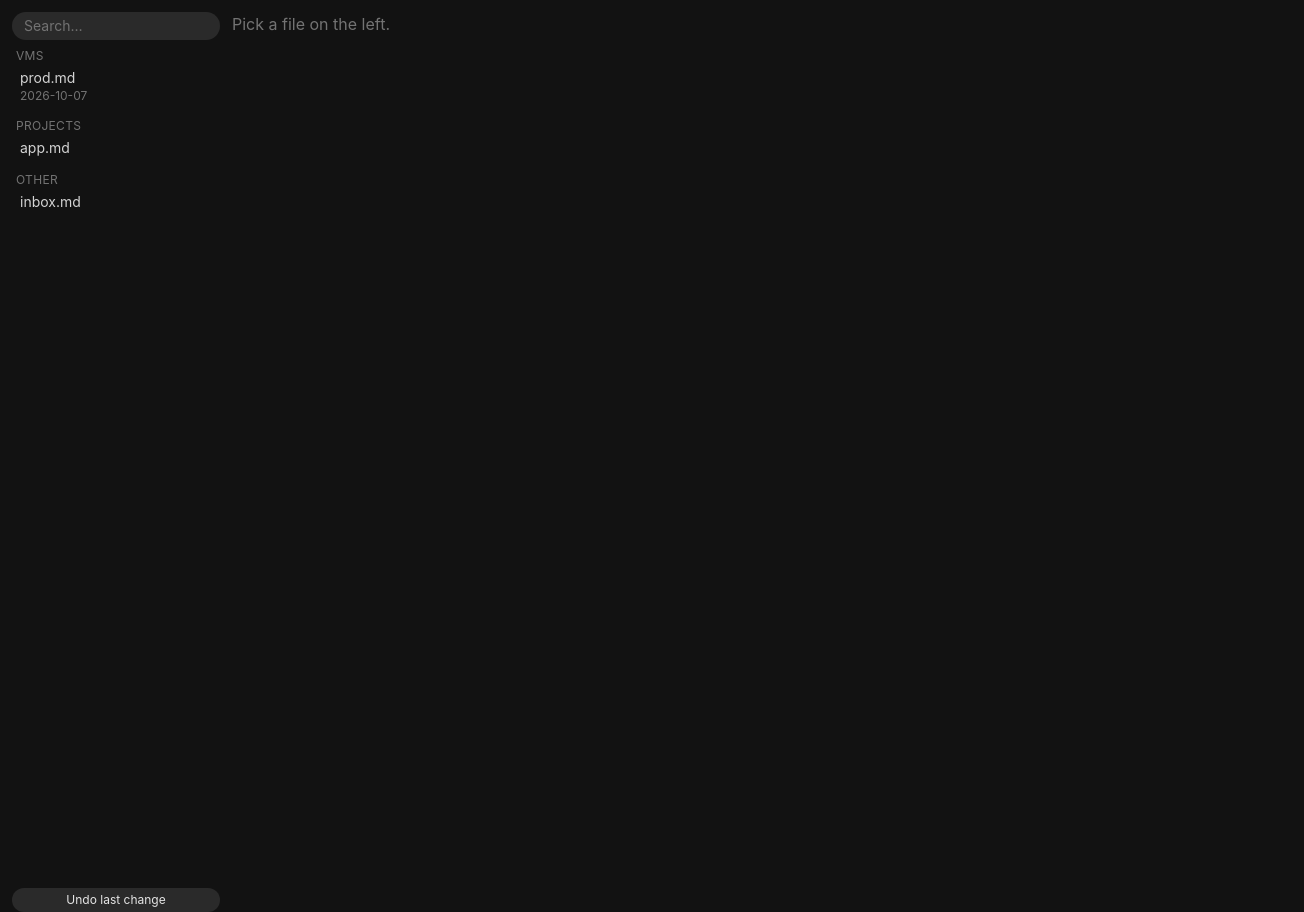
Test: Browse › shows backend errors on save
Click the button "prod.md 2026-10-07". click: (114, 86)
box: [12,64,216,108]
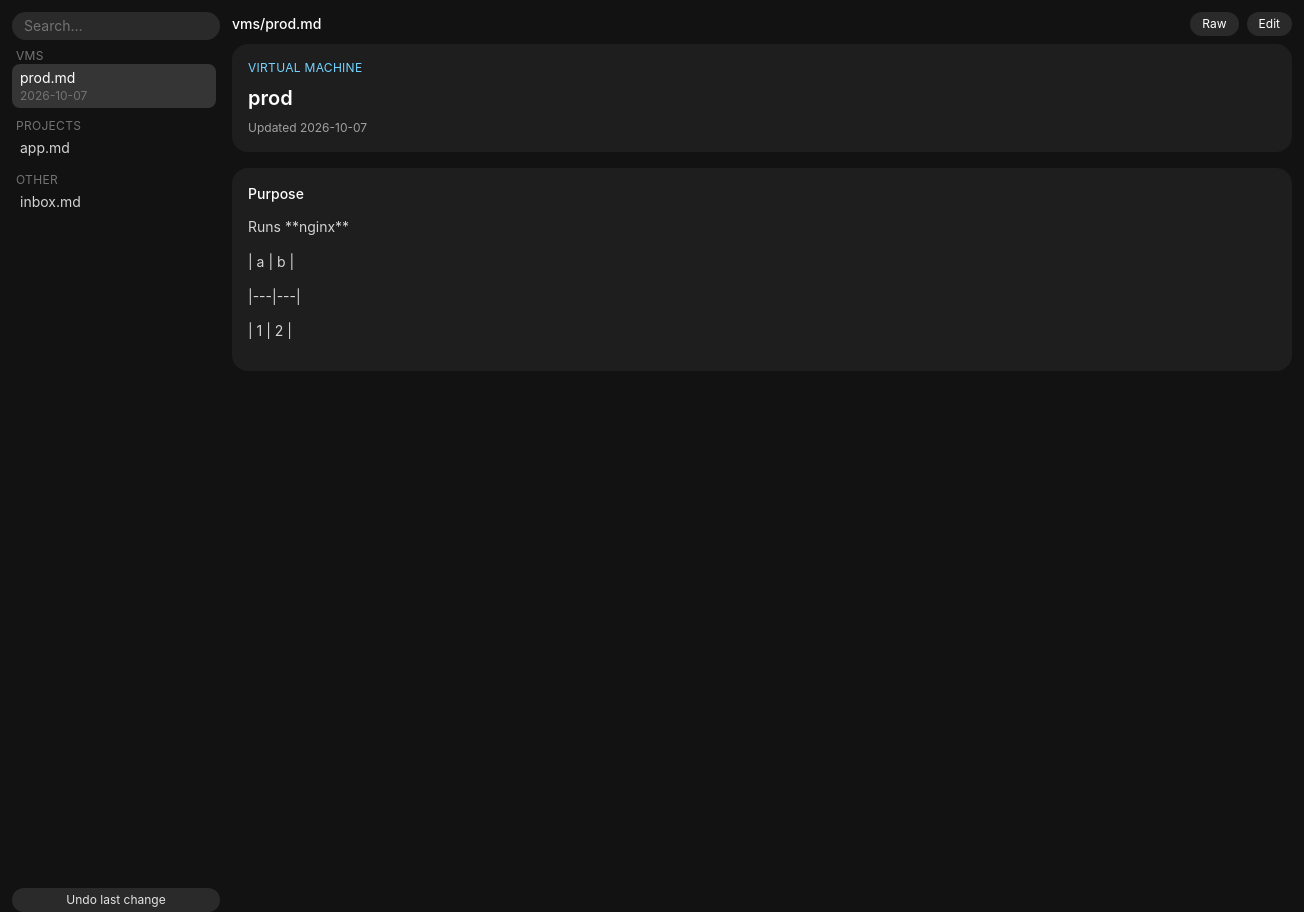
Click the button "Edit". click: (1269, 24)
box: [1247,12,1292,36]
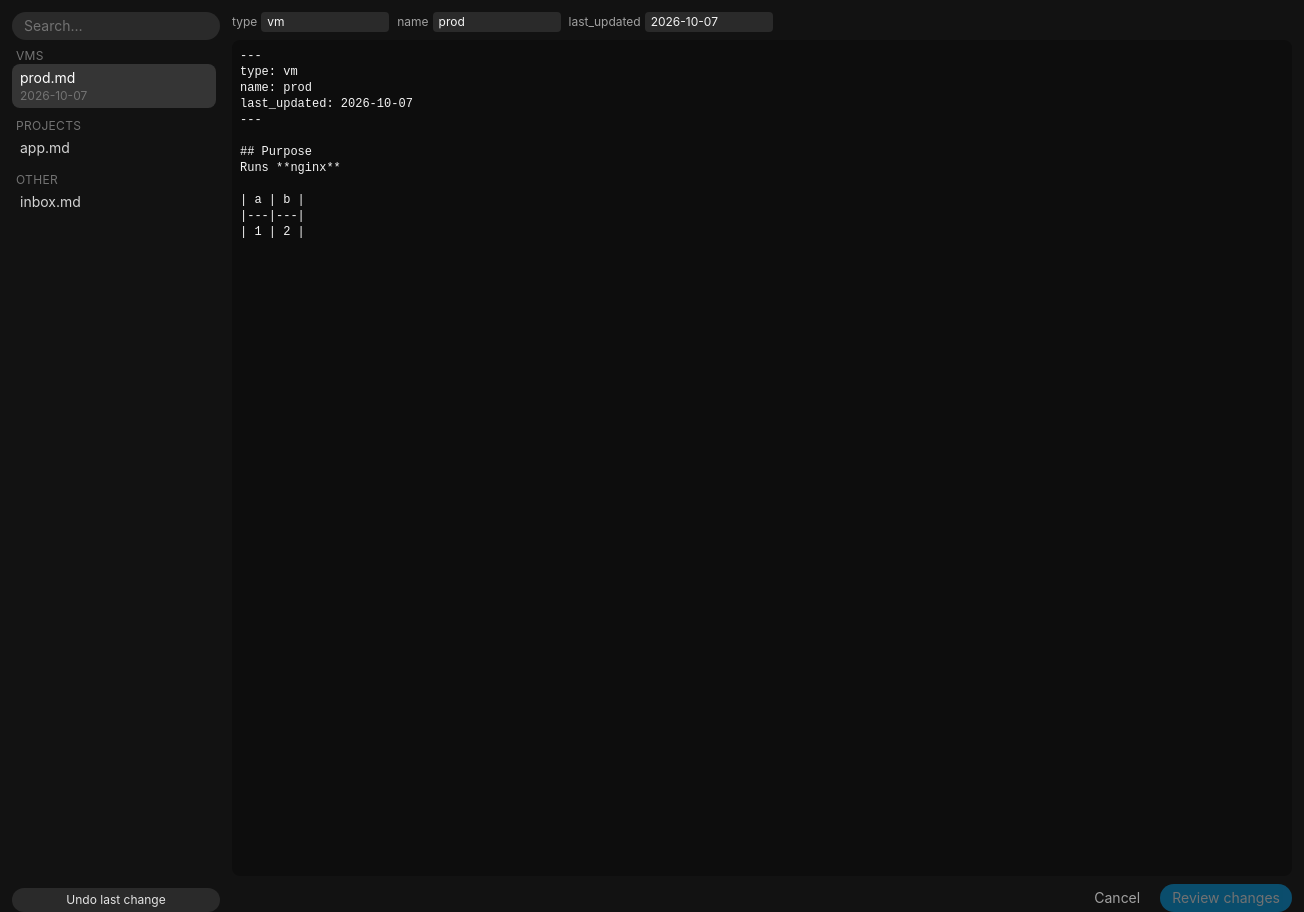
Replace the text in the text box named "Markdown source" with "changed". click: (762, 458)
box: [232,40,1292,876]
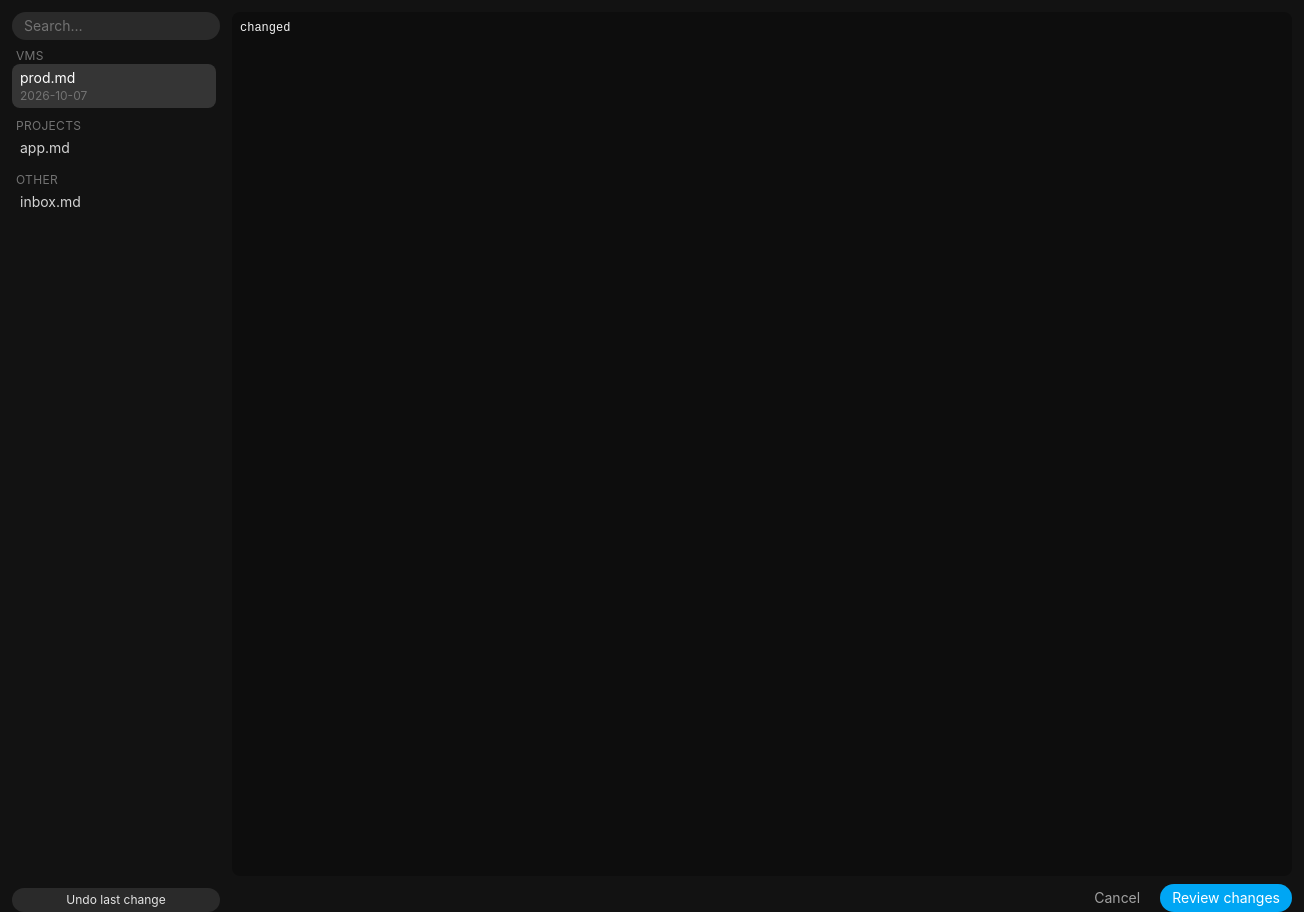
Click the button "Review changes". click: (1226, 898)
box: [1160,884,1292,911]
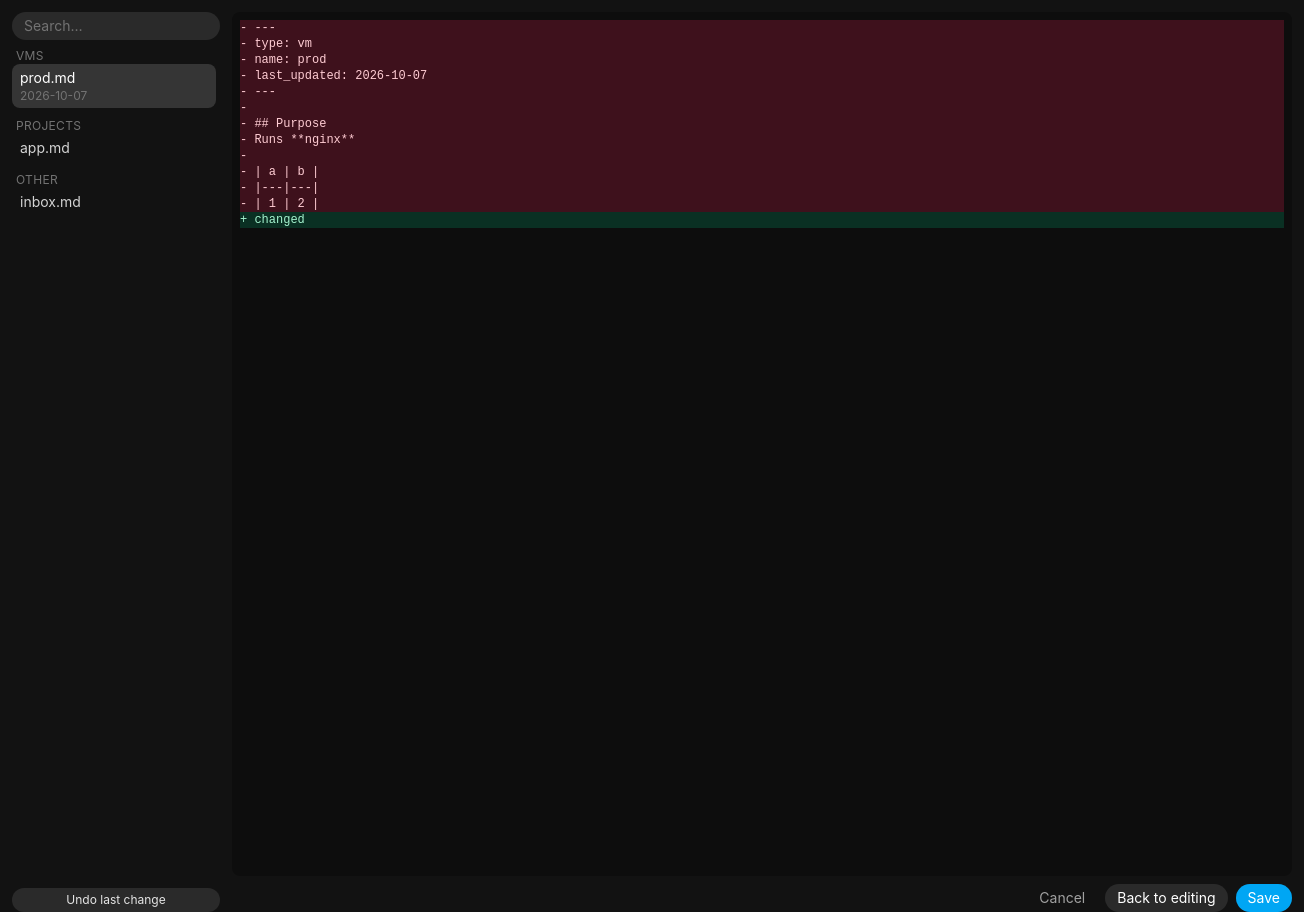
Click the button "Save". click: (1264, 898)
box: [1236,884,1292,911]
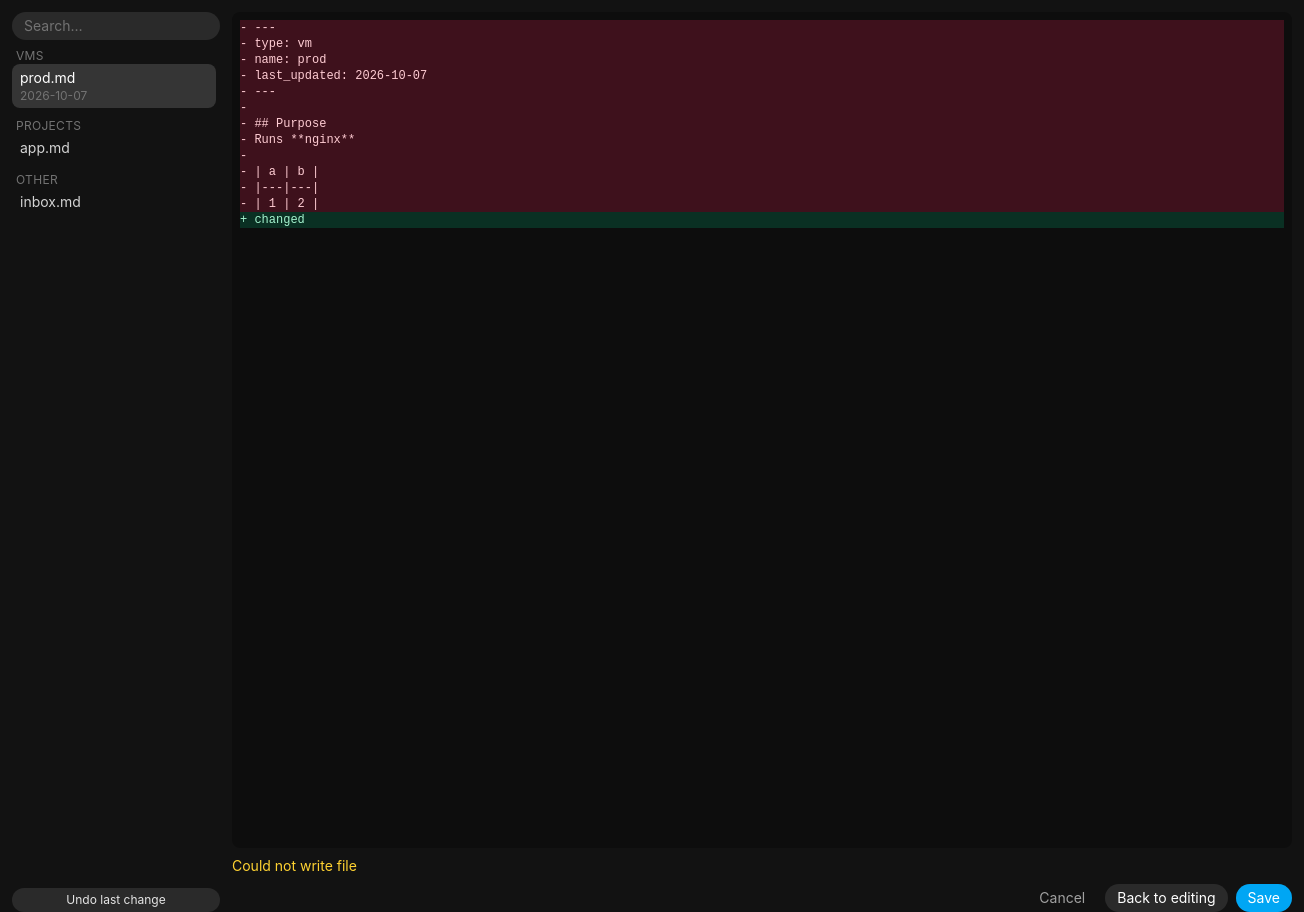
Expected: the text "Could not write file" is shown, [232,857,357,874]
